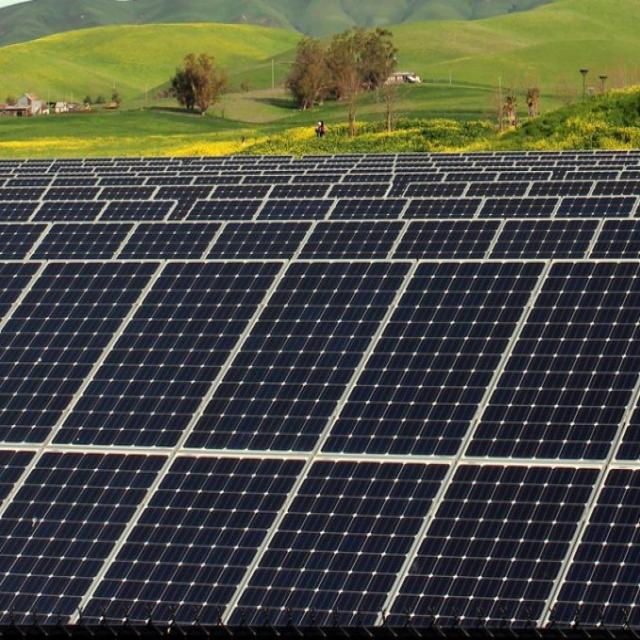clean-solar-panel: (1, 150, 640, 629)
